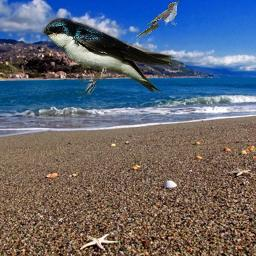Cuckoo: (135, 1, 181, 38)
Swallow: (42, 17, 179, 98)
